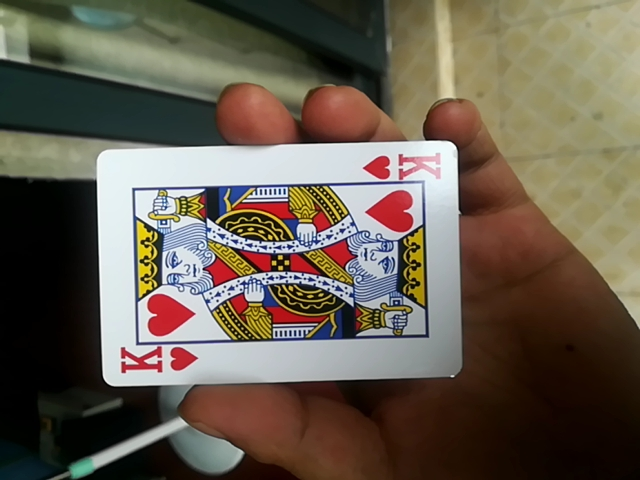hx k: (98, 137, 460, 391)
